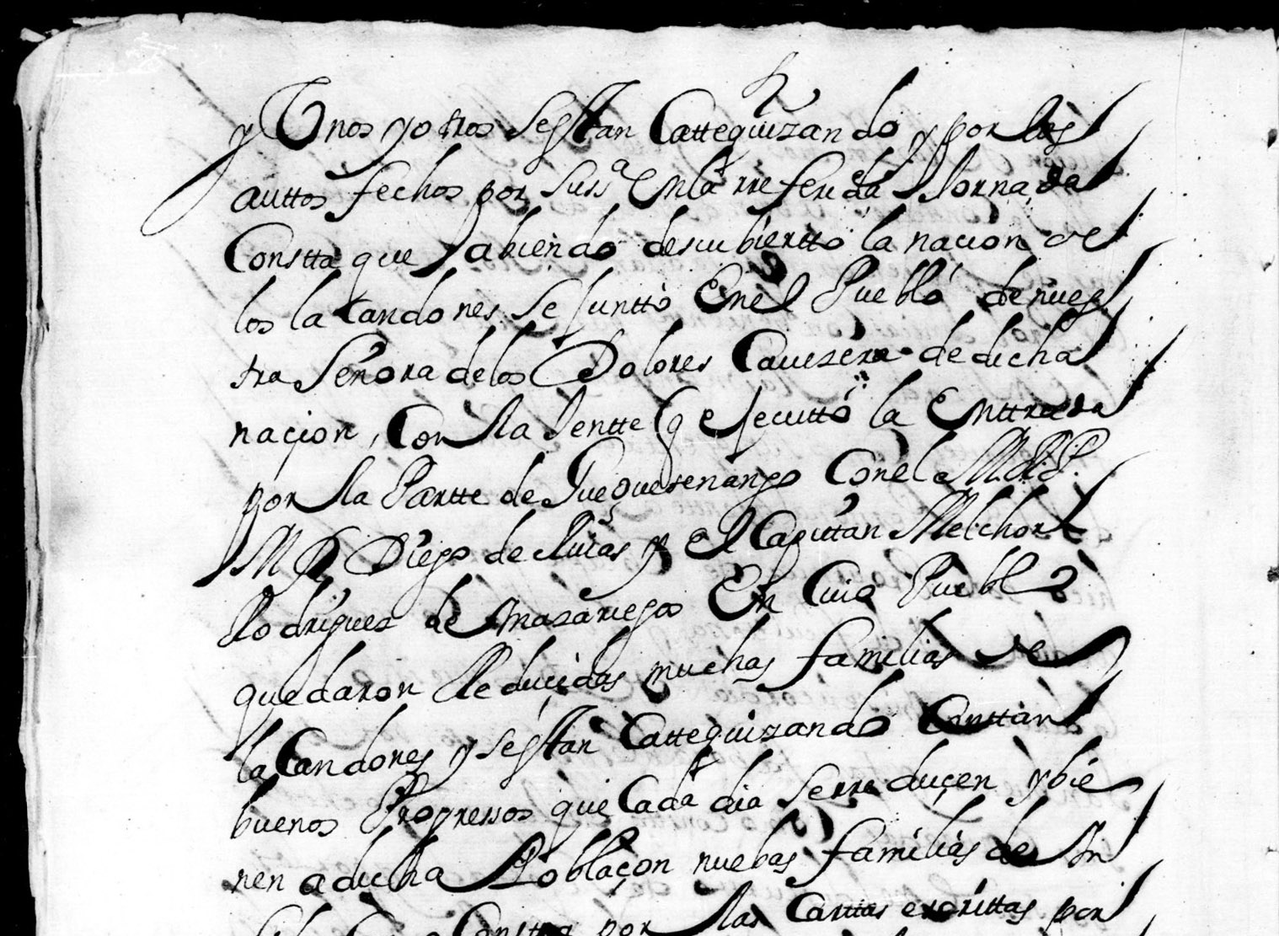lacandon: (237, 703, 433, 783), (290, 268, 499, 330)
